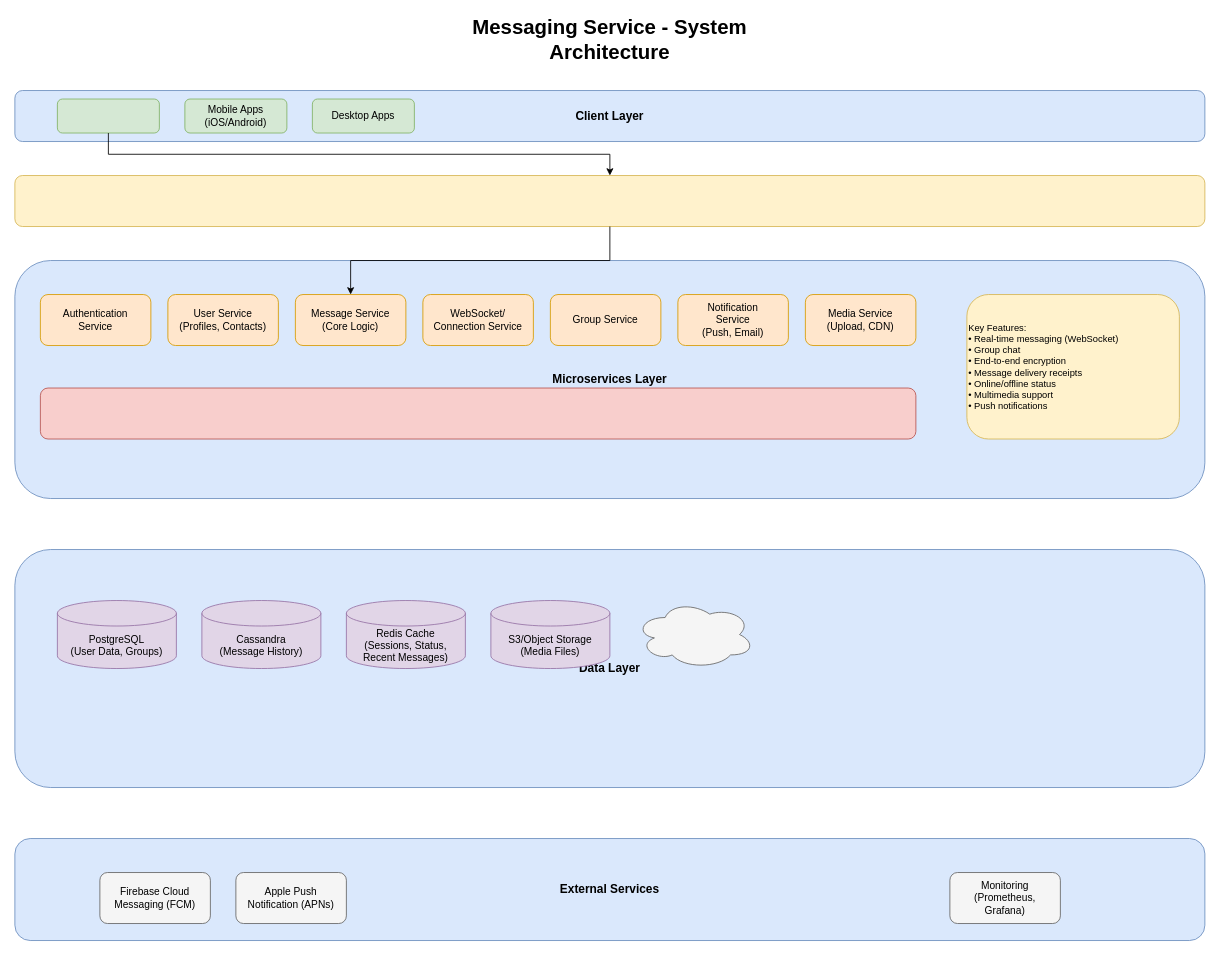
The diagram is 1220 pixels wide and 955 high, and some of its shapes have lost their labels. The centre of each missing label's shape, as x and y in pixels:
"API Gateway (Load Balancer, Auth, Rate Limiting)" belongs at pixel 609 201.
"CDN (Media Delivery)" belongs at pixel 694 634.
"Message Queue (Kafka/RabbitMQ) (Reliable Message Delivery, Pub-Sub)" belongs at pixel 478 413.
"Web Client" belongs at pixel 108 115.
